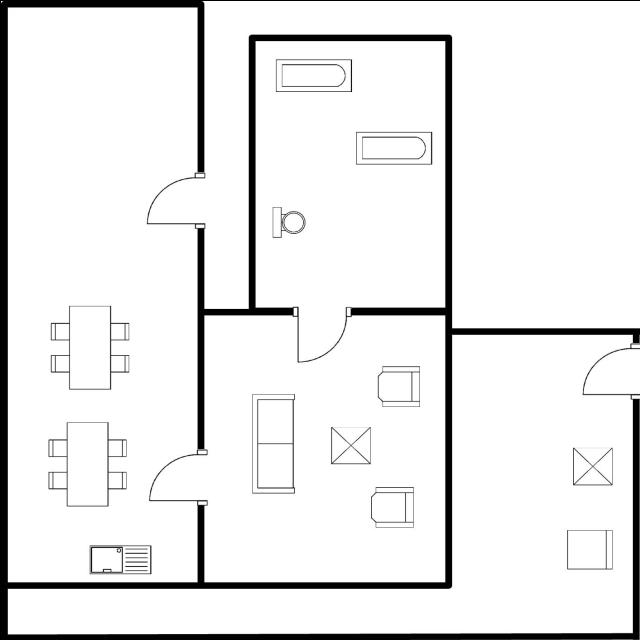armchair: (366, 482, 422, 534), (375, 359, 426, 411)
coffee_table: (326, 422, 376, 469), (568, 443, 618, 489)
dining_table: (43, 414, 132, 512), (46, 298, 133, 397)
large_sink: (269, 201, 311, 243)
large_sofa: (247, 387, 301, 497)
sink: (82, 538, 156, 578)
small_sofa: (561, 525, 617, 573)
tub: (268, 54, 358, 96), (351, 126, 438, 168)
